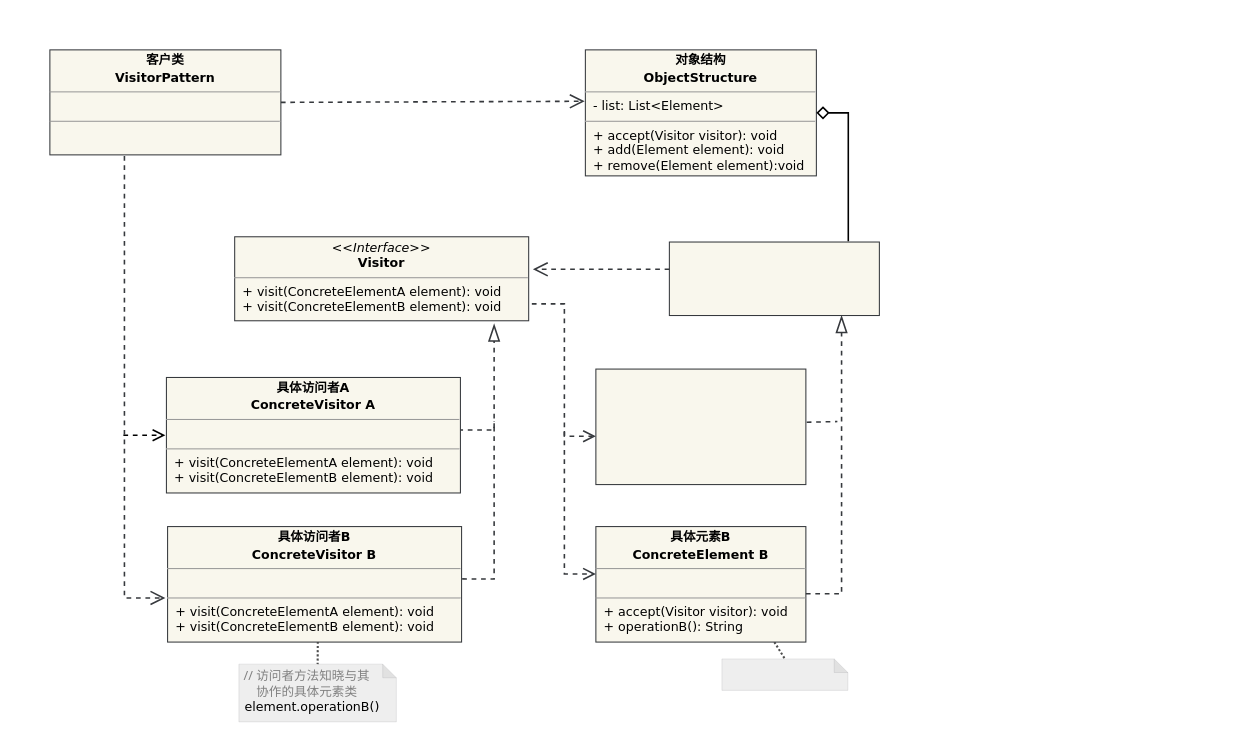
Some shapes in this 1233 by 750 pixel diagram are drawn without their labels. Each missing label, with the centre of its shape:
"<<Interface>> Element + accept(Visitor visitor): void" goes at (773,278).
"visitor.visit( this )" goes at (784,674).
"具体元素A ConcreteElement A + accept(Visitor visitor): void + operationA(): String" goes at (700,426).
